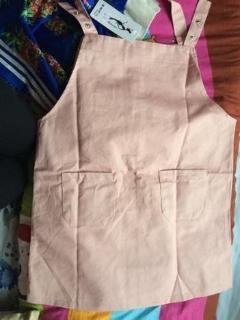sling: (27, 0, 237, 312)
